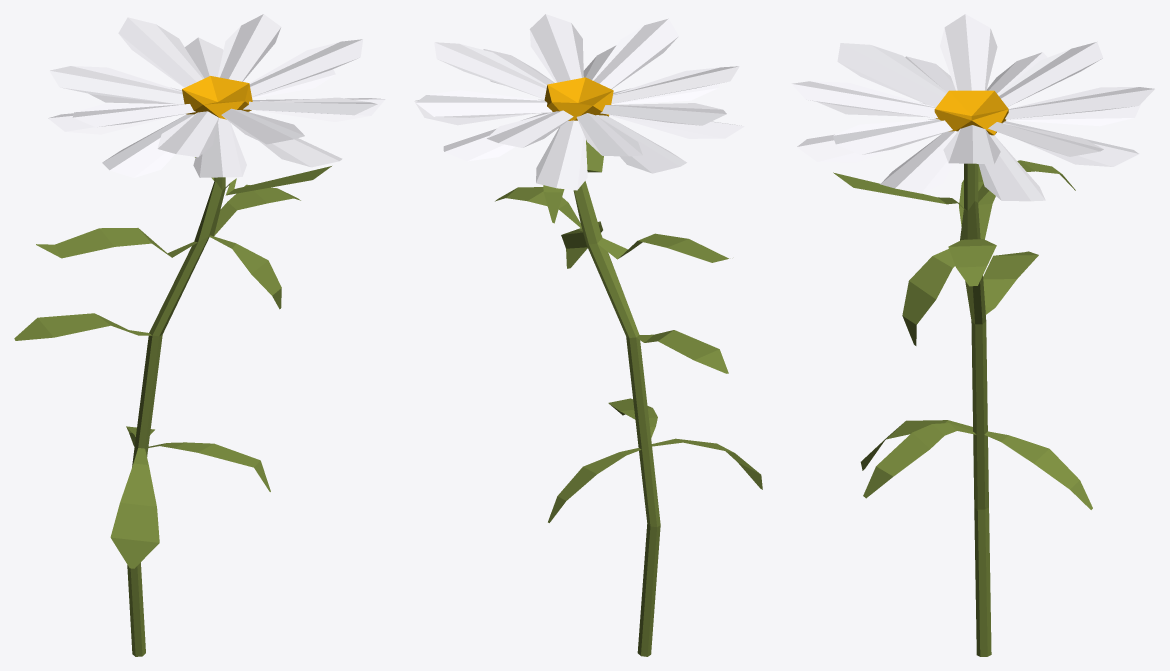
Rendered from flower.glb.
The picture shows the model from 3 angles, left to right: view 1: azimuth 30°, elevation 25°; view 2: azimuth 150°, elevation 25°; view 3: azimuth 270°, elevation 25°; orthographic projection. The views are drawn at different scales.
Visible parts, largest first — view 1: margarita_flower; view 2: margarita_flower; view 3: margarita_flower.
Part boxes in pixels (<box>): margarita_flower: <box>14,14,385,656</box>; margarita_flower: <box>414,14,762,656</box>; margarita_flower: <box>791,14,1154,656</box>.
Bounding box in the file's own units: 1.06 × 1.76 × 0.9597.
